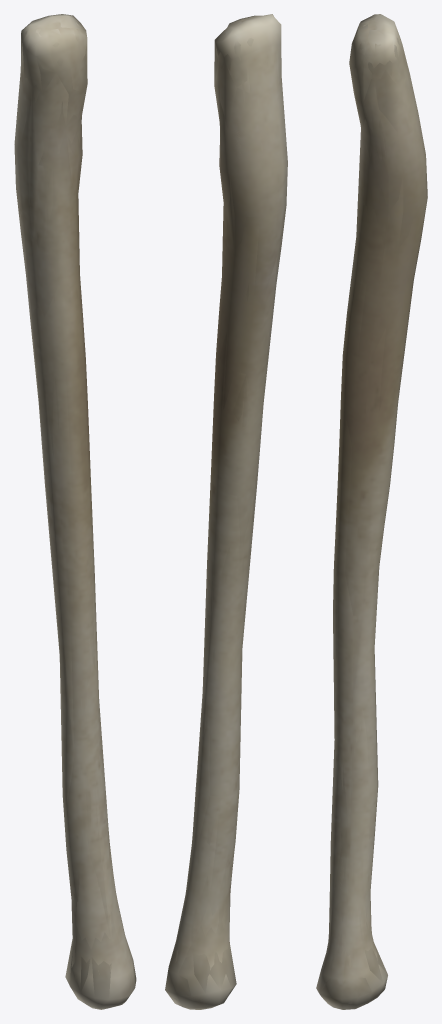
Rendered from R Ulna.fbx.
The picture shows the model from 3 angles, left to right: view 1: azimuth 30°, elevation 25°; view 2: azimuth 210°, elevation 25°; view 3: azimuth 270°, elevation 25°; orthographic projection. The views are drawn at different scales.
Visible parts, largest first — view 1: R Ulna low, R Ulna, R Ulna high; view 2: R Ulna, R Ulna low, R Ulna high; view 3: R Ulna, R Ulna low, R Ulna high.
Boxes of the visible parts, bbox=[...] form: R Ulna low: bbox=[14, 15, 134, 1007]; R Ulna: bbox=[14, 14, 136, 1009]; R Ulna high: bbox=[20, 18, 127, 981]; R Ulna: bbox=[165, 14, 287, 1009]; R Ulna low: bbox=[167, 15, 286, 1006]; R Ulna high: bbox=[174, 17, 279, 1000]; R Ulna: bbox=[316, 14, 427, 1009]; R Ulna low: bbox=[319, 14, 425, 1008]; R Ulna high: bbox=[326, 17, 421, 1004].
Size of the model in its own units: 1.12 by 11.03 by 1.16.
1 material, 1 textured.
